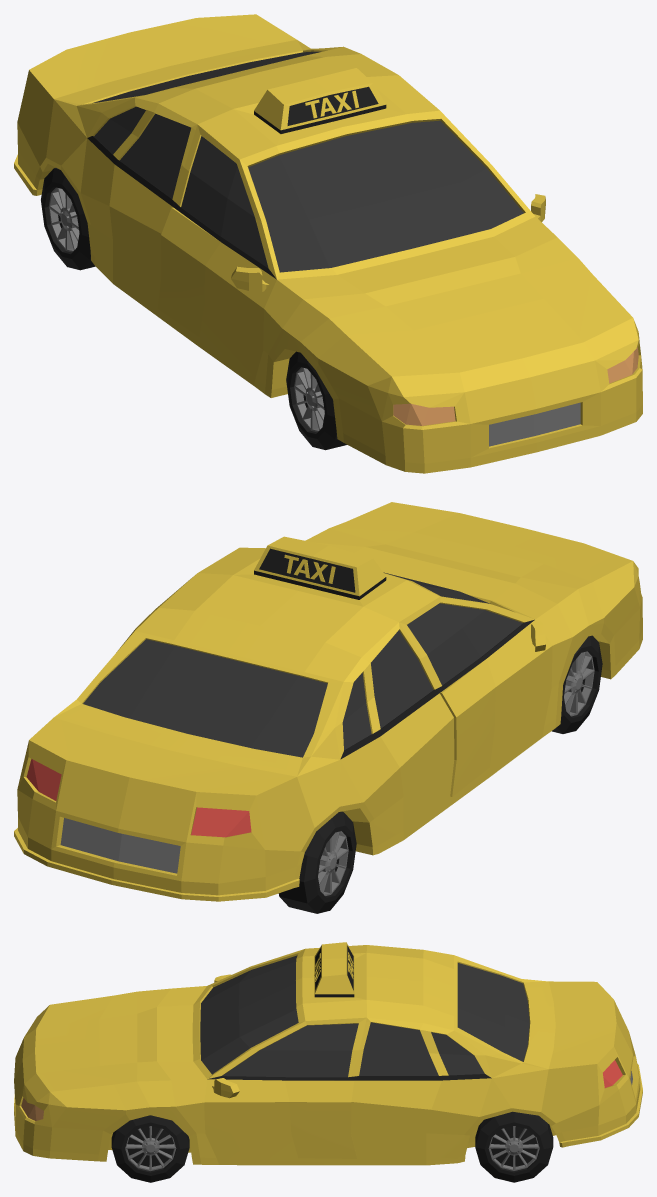
The picture shows the model from 3 angles, top to bottom: view 1: azimuth 30°, elevation 25°; view 2: azimuth 150°, elevation 25°; view 3: azimuth 270°, elevation 25°; orthographic projection. The views are drawn at different scales.
Parts seen in each view (by area): view 1: Taxi, Taxi_BackWheels, Taxi_FrontRightWheel; view 2: Taxi, Taxi_BackWheels, Taxi_FrontRightWheel; view 3: Taxi, Taxi_BackWheels, Taxi_FrontLeftWheel.
Part boxes in pixels (<box>): Taxi: <box>14,14,642,473</box>; Taxi_BackWheels: <box>41,168,95,270</box>; Taxi_FrontRightWheel: <box>286,351,346,450</box>; Taxi: <box>14,502,642,901</box>; Taxi_BackWheels: <box>278,811,356,913</box>; Taxi_FrontRightWheel: <box>552,635,602,733</box>; Taxi: <box>14,942,642,1165</box>; Taxi_BackWheels: <box>475,1111,553,1182</box>; Taxi_FrontLeftWheel: <box>111,1115,189,1182</box>.
Bounding box in the file's own units: 1.81 × 1.31 × 4.22.
